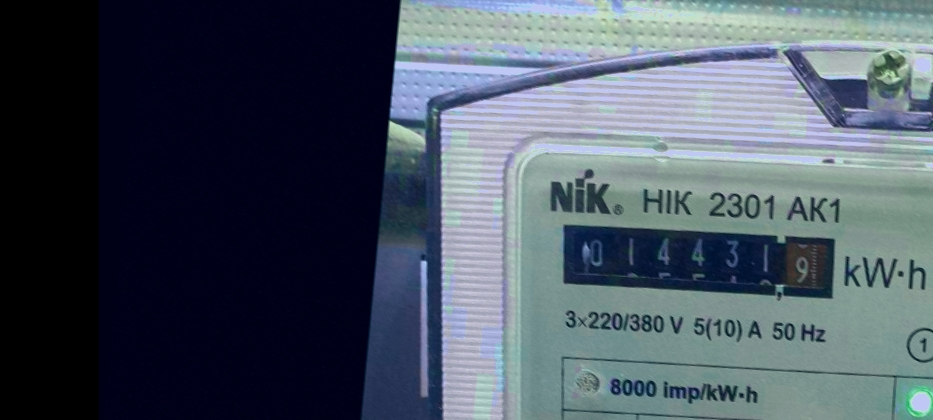0: (585, 236, 608, 271)
1: (621, 234, 642, 269), (758, 242, 774, 275)
3: (721, 239, 743, 272)
4: (652, 234, 676, 269), (687, 235, 709, 270)
9: (791, 253, 811, 286)
screen: (550, 206, 851, 319)
